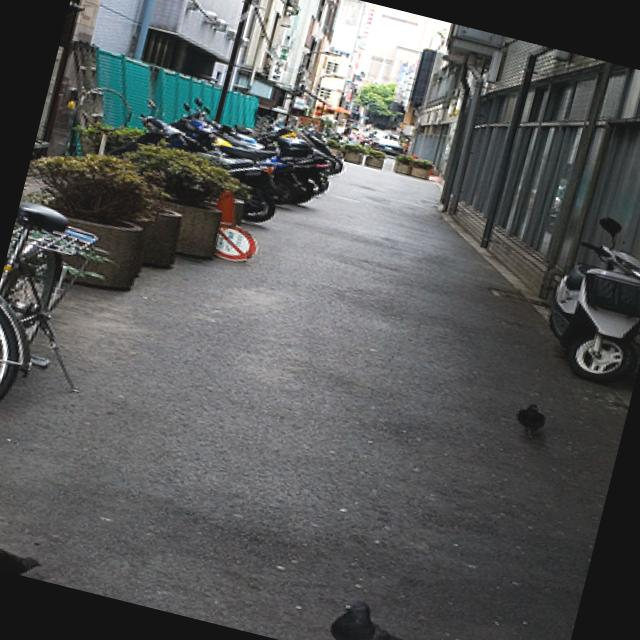Vehicle: (105, 93, 300, 231), (527, 202, 640, 389), (159, 101, 317, 209), (190, 115, 339, 198), (230, 112, 352, 174)
